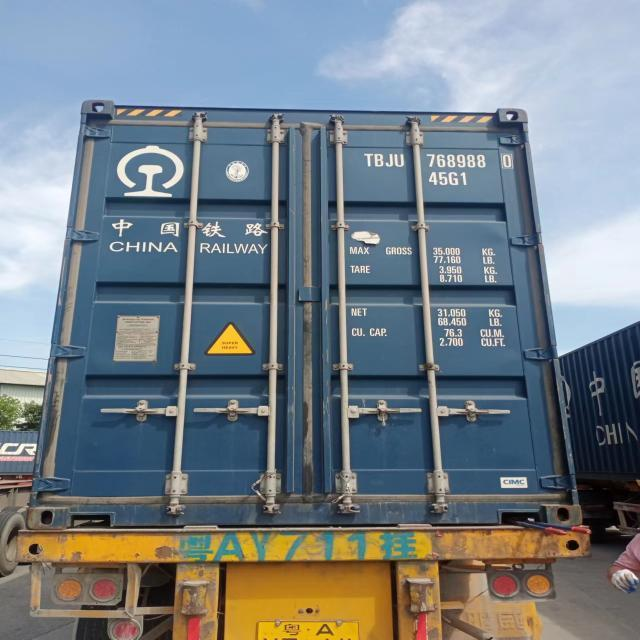ISO: (431, 170, 468, 189)
container_number: (364, 152, 520, 170)
